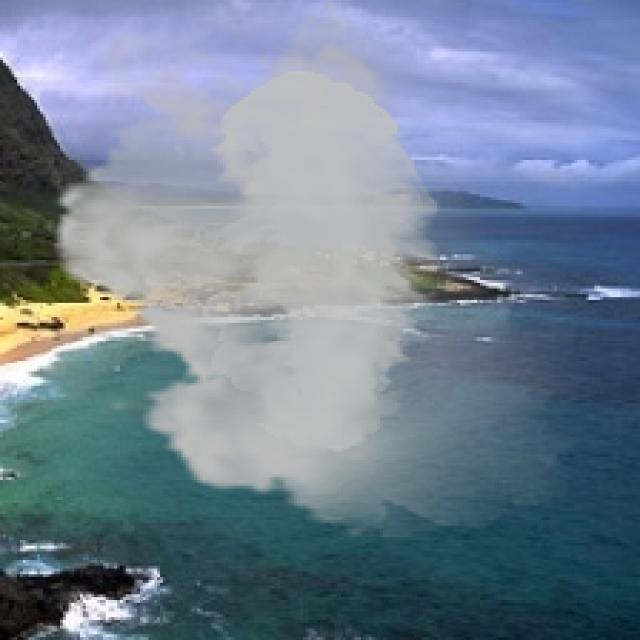Smoke: (31, 0, 600, 537)
